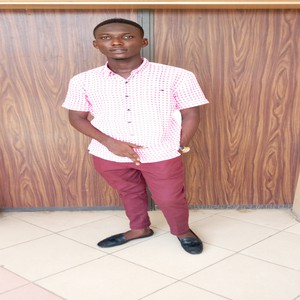Fulokoja_male_student: (83, 22, 197, 250)
